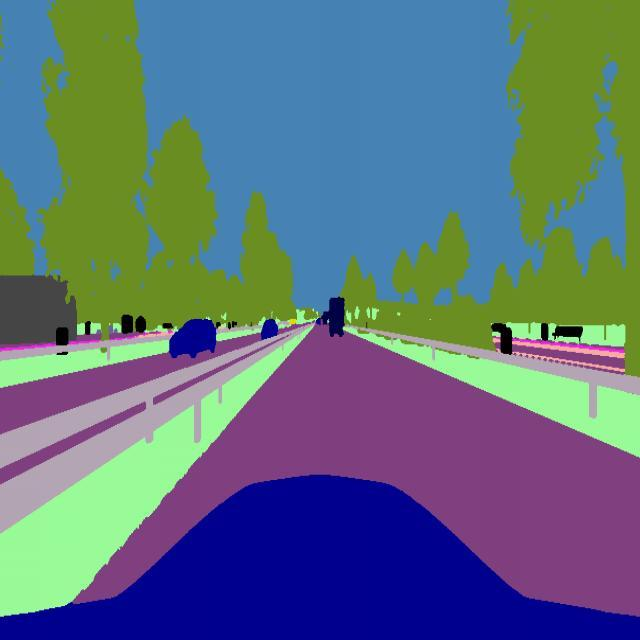safe: (168, 315, 218, 362), (326, 295, 347, 342), (260, 318, 280, 342)
